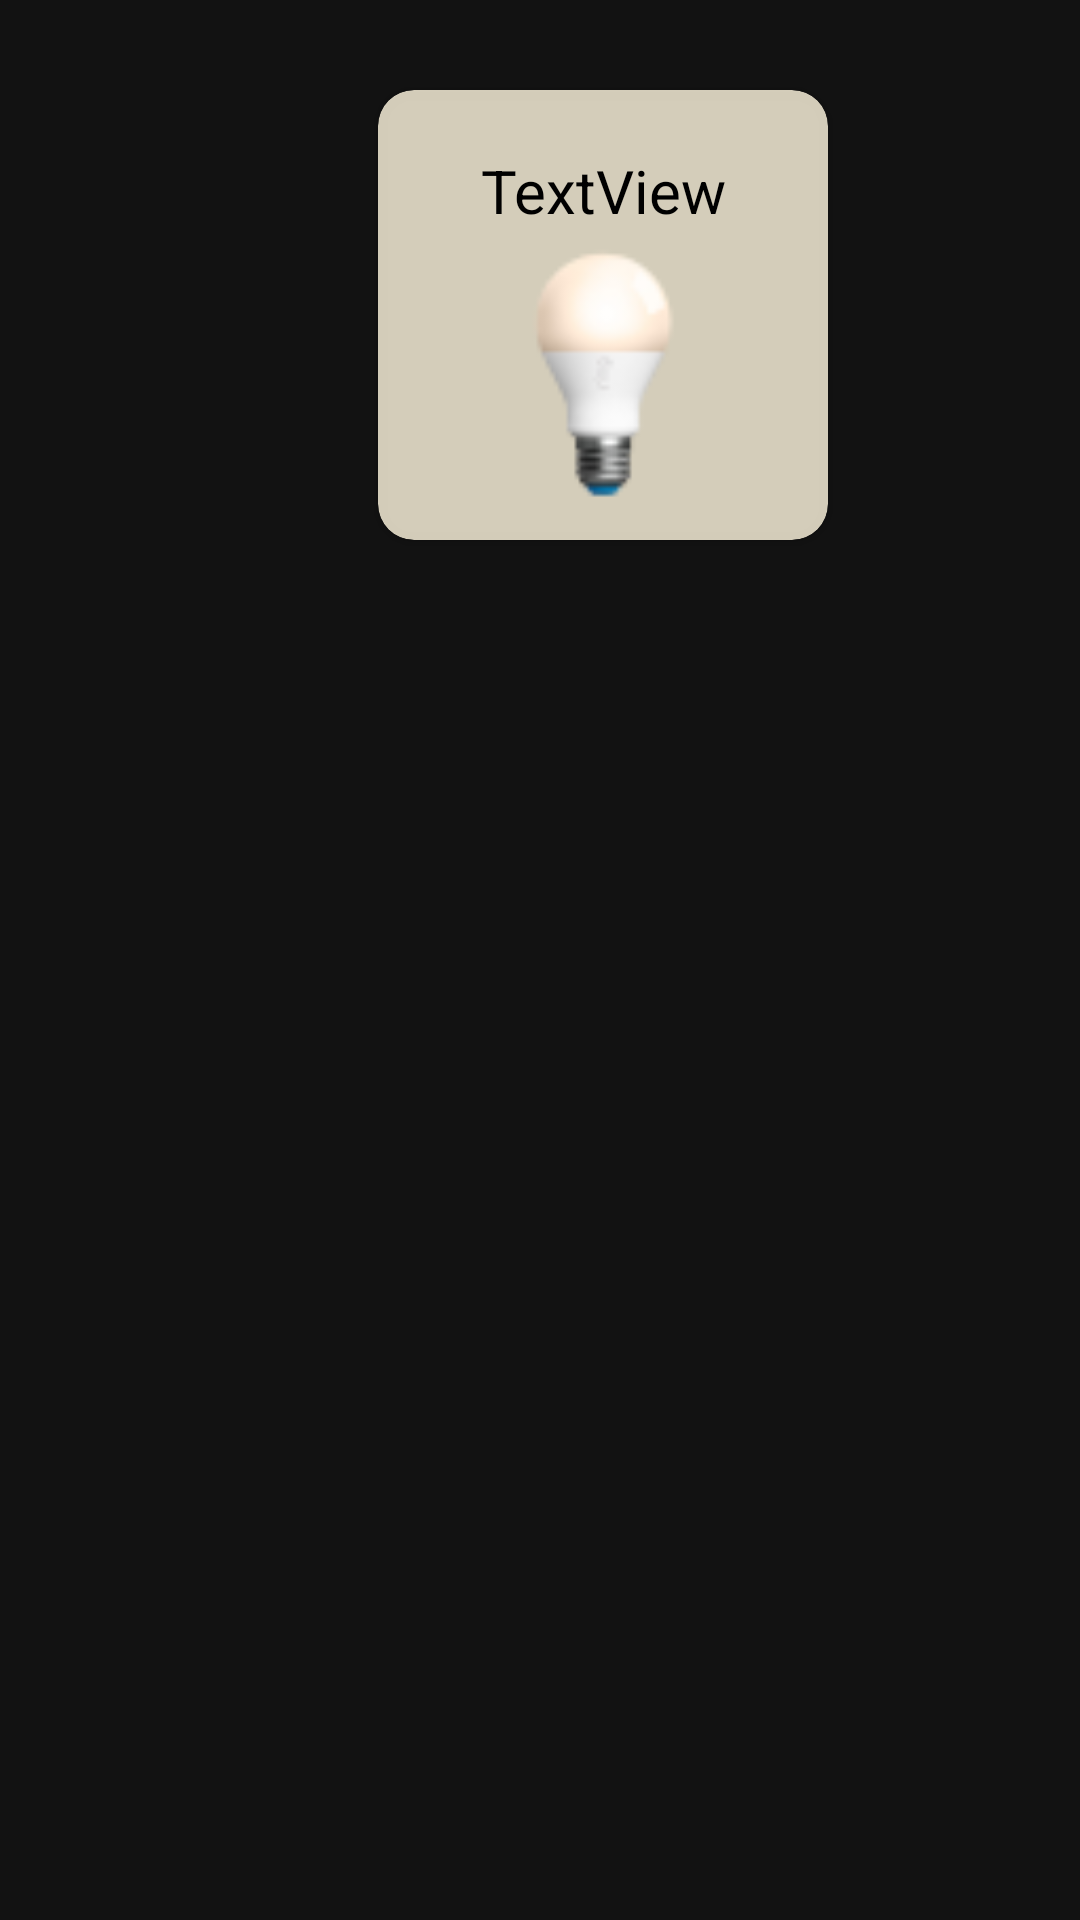

Screen size 1080w x 1920h. Icon name, then its box in pixels as (x1, y1, x2, y2):
philipbulp: (541, 255, 670, 497)
